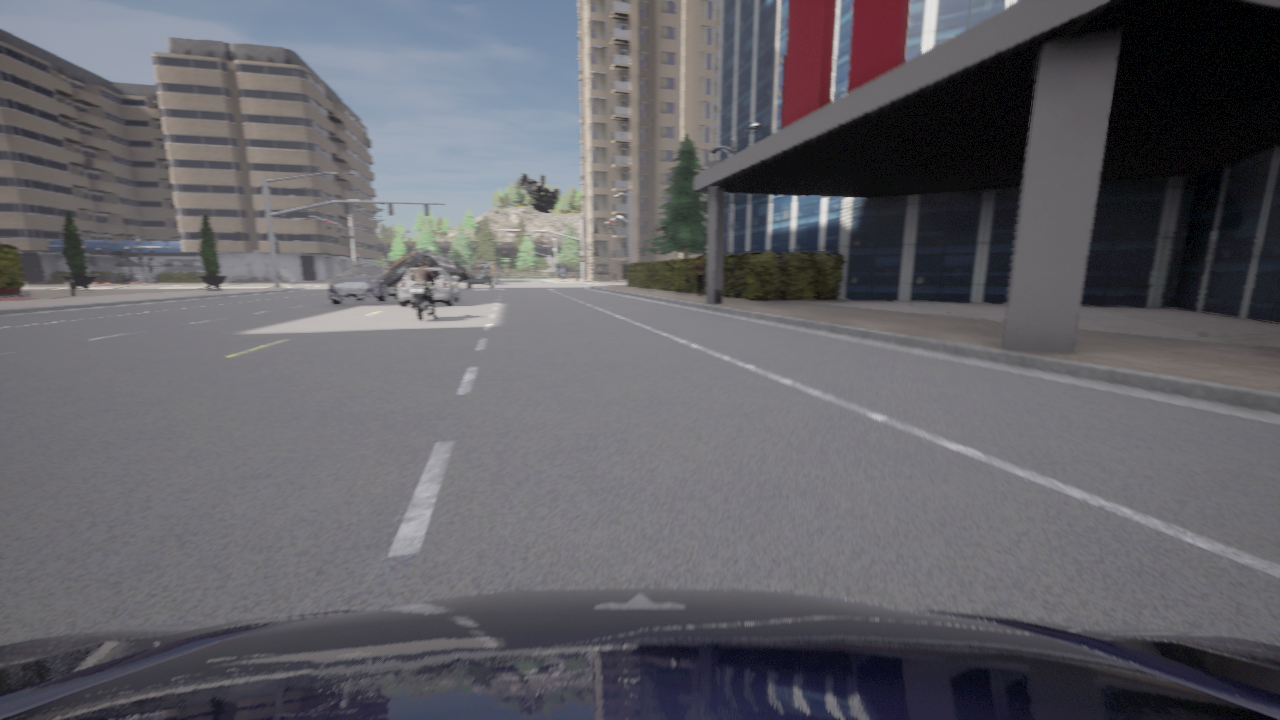cyclist: (0, 588, 1279, 719), (380, 249, 469, 293), (327, 264, 396, 304), (397, 268, 460, 307), (519, 173, 559, 213), (410, 276, 440, 321), (473, 261, 499, 284), (466, 268, 494, 288), (498, 274, 499, 282)
pedestrian: (694, 255, 705, 297)
